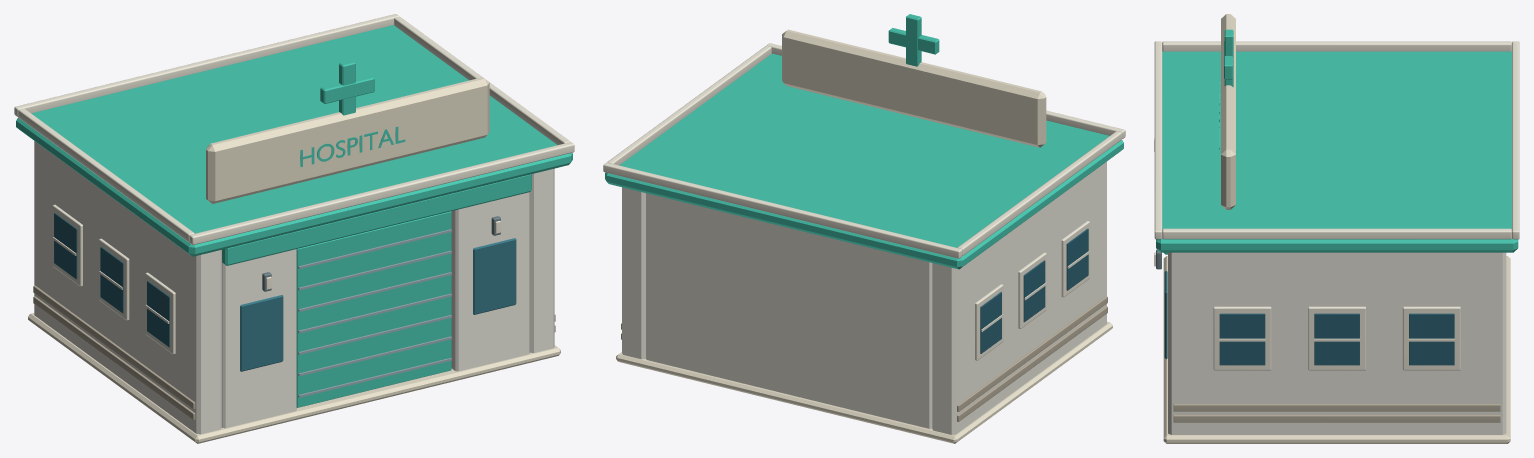
The model's file is hospital-station.glb.
3 renders of one model, left to right at view 1: azimuth 30°, elevation 25°; view 2: azimuth 150°, elevation 25°; view 3: azimuth 270°, elevation 25°, orthographic. The views are drawn at different scales.
Parts seen in each view (by area): view 1: Building, Shutter; view 2: Building; view 3: Building.
Part boxes in pixels (bbox=[...]): Building: bbox=[14, 14, 574, 443]; Shutter: bbox=[296, 211, 451, 407]; Building: bbox=[603, 14, 1125, 443]; Building: bbox=[1154, 14, 1519, 443].
Size of the model in its own units: 7.5 by 5.9 by 6.06.
